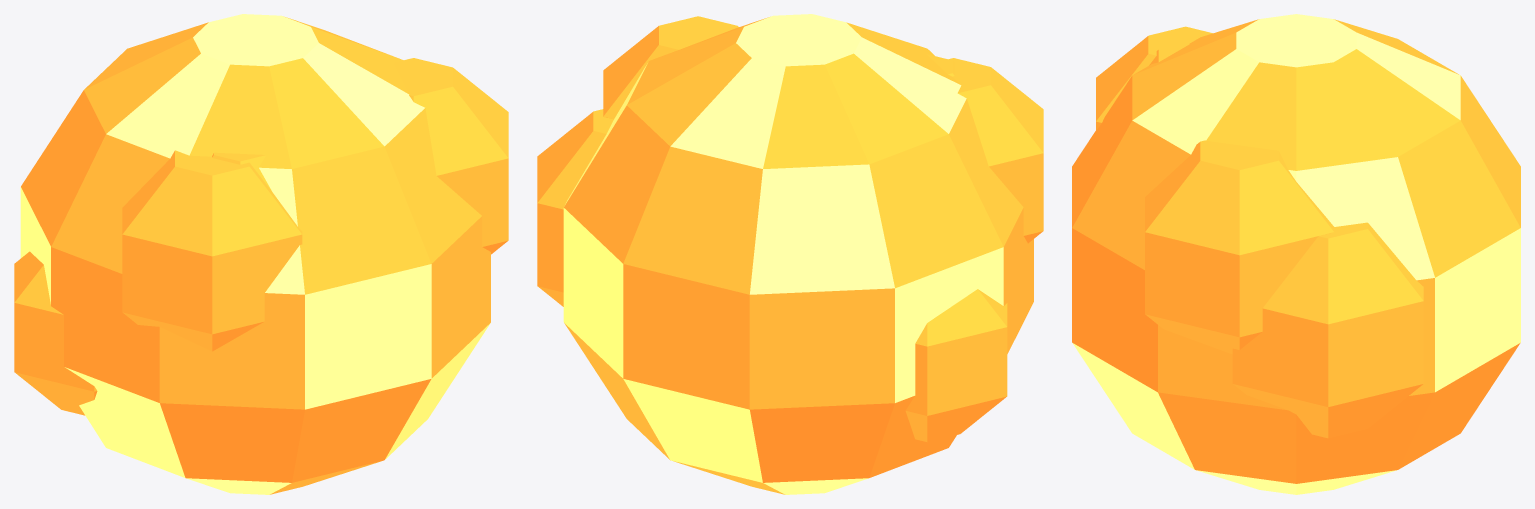
File: SM_VFX_Fireball_HQ.glb
The picture shows the model from 3 angles, left to right: view 1: azimuth 30°, elevation 25°; view 2: azimuth 150°, elevation 25°; view 3: azimuth 270°, elevation 25°; orthographic projection.
Visible parts, largest first — view 1: SM_VFX_Fireball_HQ; view 2: SM_VFX_Fireball_HQ; view 3: SM_VFX_Fireball_HQ.
Boxes of the visible parts, x1,y1,x2,y2 form: SM_VFX_Fireball_HQ: (14, 14, 508, 494); SM_VFX_Fireball_HQ: (537, 14, 1043, 494); SM_VFX_Fireball_HQ: (1072, 14, 1520, 494).
Bounding box in the file's own units: 2.22 × 1.93 × 1.84.
Materials: 1 (1 with a texture image).
